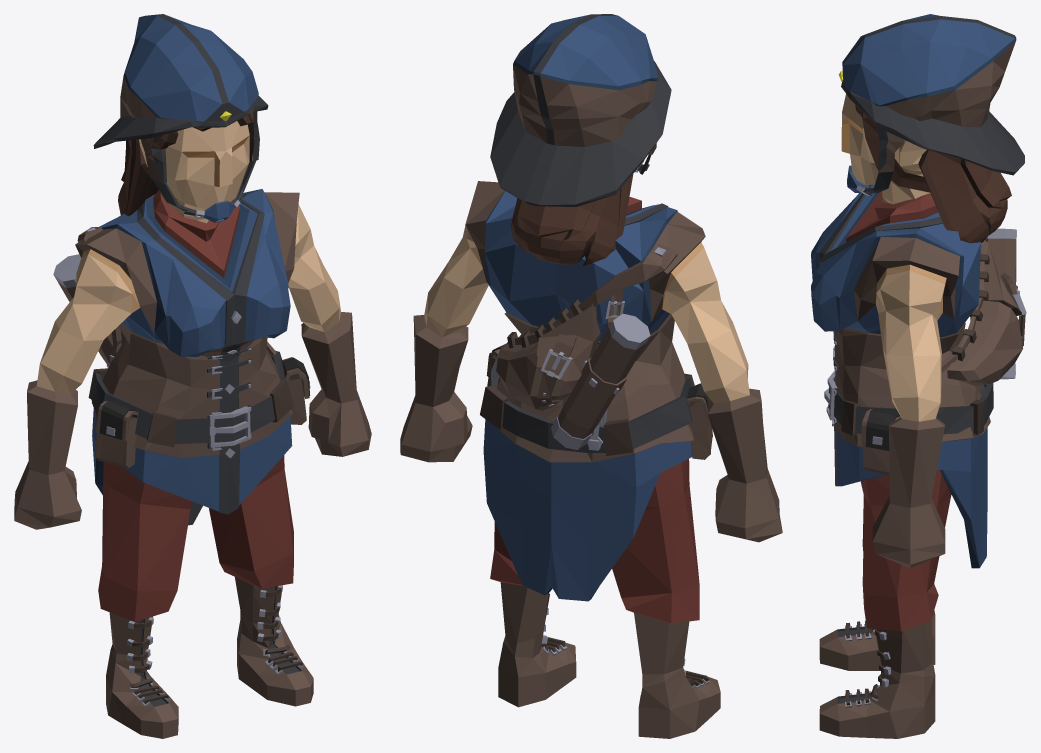
The model's file is Player_meshes_female_v2wizonly.fbx.
The picture shows the model from 3 angles, left to right: view 1: azimuth 30°, elevation 25°; view 2: azimuth 150°, elevation 25°; view 3: azimuth 270°, elevation 25°; orthographic projection. The views are drawn at different scales.
Parts seen in each view (by area): view 1: mage_05a_female03t:mage_female, mage_05a_female03t:mage_hat; view 2: mage_05a_female03t:mage_female, mage_05a_female03t:mage_hat; view 3: mage_05a_female03t:mage_female, mage_05a_female03t:mage_hat.
Part boxes in pixels (box(x1,y1,x2,y2)): mage_05a_female03t:mage_female: box(14, 112, 371, 738); mage_05a_female03t:mage_hat: box(93, 14, 268, 222); mage_05a_female03t:mage_female: box(400, 160, 782, 738); mage_05a_female03t:mage_hat: box(490, 14, 671, 206); mage_05a_female03t:mage_female: box(811, 94, 1026, 738); mage_05a_female03t:mage_hat: box(838, 14, 1024, 195).
Bounding box in the file's own units: 515 × 900 × 261.
